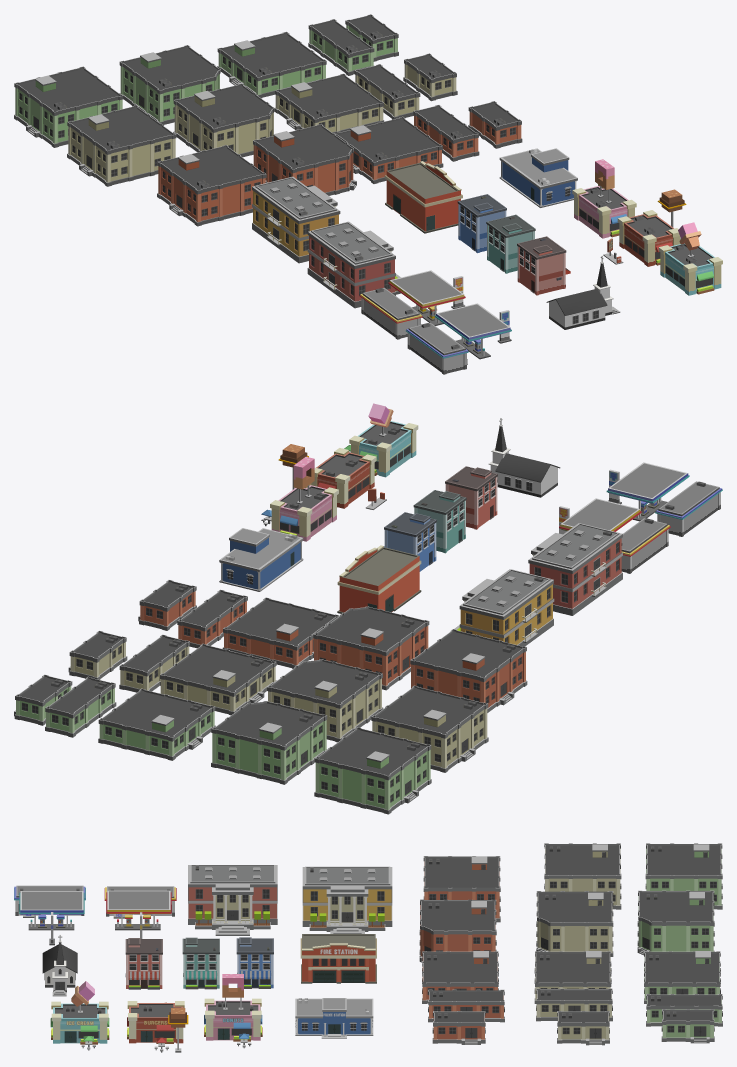
Rendered from Buildings.fbx.
The picture shows the model from 3 angles, top to bottom: view 1: azimuth 30°, elevation 25°; view 2: azimuth 150°, elevation 25°; view 3: azimuth 270°, elevation 25°; orthographic projection. The views are drawn at different scales.
Visible parts, largest first — view 1: factory_large_tan, factory_large_red, factory_large_corner_tan, town_hall_red, factory_large_green, factory_large_corner_red, factory_large_corner_green, town_hall_tan, factory_large_single_green, factory_large_single_tan, factory_large_single_red, fire_station (+18 smaller); view 2: factory_large_green, factory_large_corner_green, factory_large_red, factory_large_tan, factory_large_corner_red, town_hall_red, factory_large_corner_tan, factory_large_single_green, town_hall_tan, factory_large_single_tan, factory_large_single_red, fire_station (+18 smaller); view 3: town_hall_red, town_hall_tan, factory_large_corner_green, factory_large_corner_tan, factory_large_corner_red, factory_large_tan, factory_large_green, fire_station, factory_large_red, factory_large_single_green, factory_large_single_red, police_station (+21 smaller).
Part boxes in pixels (x1,y1,x2,y2): factory_large_tan: (67,105,176,186); factory_large_red: (157,145,266,226); factory_large_corner_tan: (173,83,274,157); town_hall_red: (307,221,400,308); factory_large_green: (14,66,123,147); factory_large_corner_red: (253,124,356,195); factory_large_corner_green: (119,45,220,124); town_hall_tan: (252,176,340,263); factory_large_single_green: (217,31,326,98); factory_large_single_tan: (274,73,384,133); factory_large_single_red: (334,116,443,183); fire_station: (384,161,462,233); factory_large_green: (314,727,431,814); factory_large_corner_green: (211,701,327,784); factory_large_red: (410,629,527,712); factory_large_tan: (371,685,488,772); factory_large_corner_red: (313,606,429,690); town_hall_red: (528,523,622,615); factory_large_corner_tan: (267,659,383,742); factory_large_single_green: (98,688,215,760); town_hall_tan: (454,569,554,646); factory_large_single_tan: (160,643,276,715); factory_large_single_red: (222,597,339,668); fire_station: (337,545,421,613); town_hall_red: (188,865,277,935); town_hall_tan: (302,866,392,933); factory_large_corner_green: (637,890,714,955); factory_large_corner_tan: (536,891,613,956); factory_large_corner_red: (419,899,496,962); factory_large_tan: (544,843,621,909); factory_large_green: (645,843,722,909); fire_station: (300,934,376,983); factory_large_red: (423,856,500,922); factory_large_single_green: (644,951,720,1003); factory_large_single_red: (422,951,498,1003); police_station: (295,998,373,1038).
Size of the model in its own units: 133 by 19.76 by 221.
Materials: 15 (15 with a texture image).
